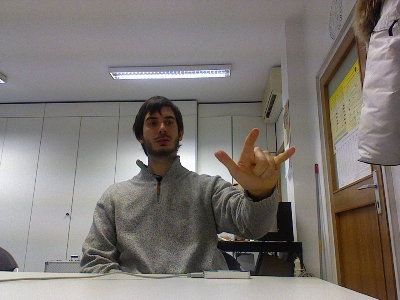我爱你: (212, 125, 296, 195)
